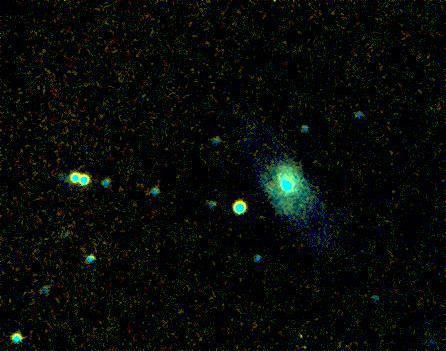star: (261, 166, 291, 196)
